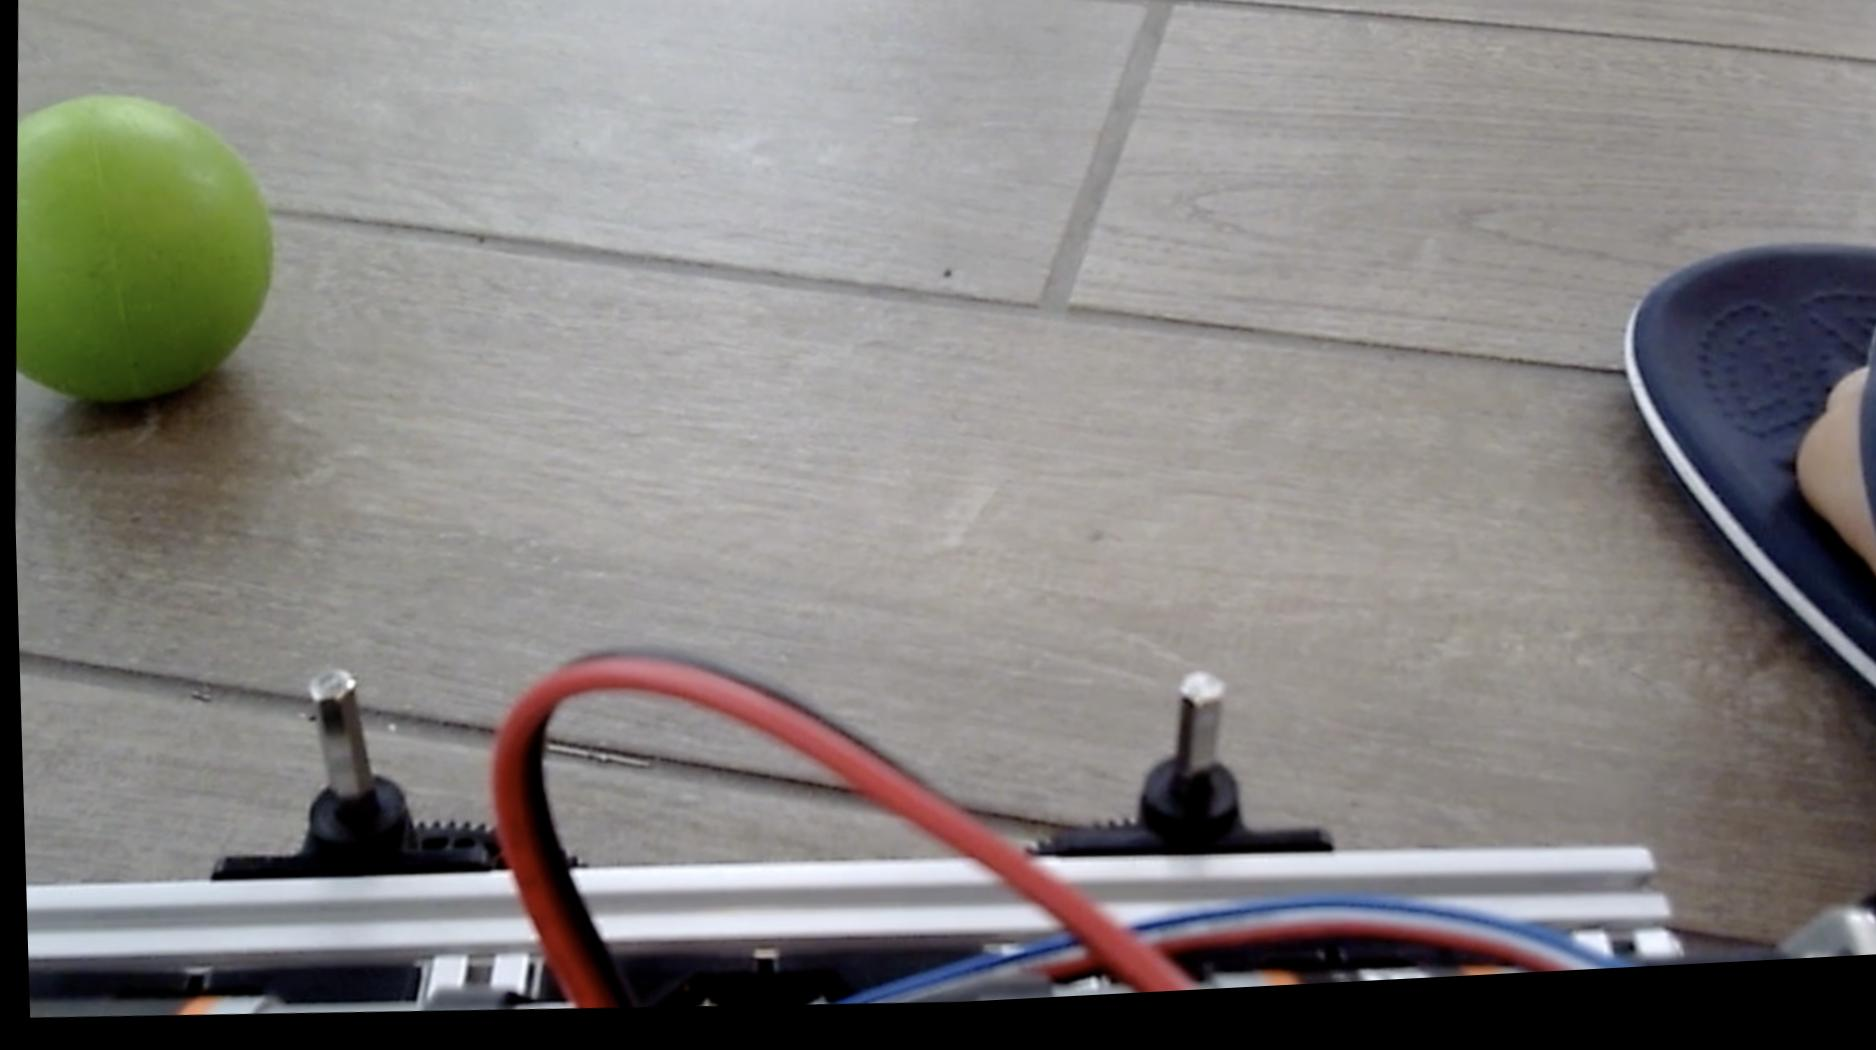greenball: (5, 80, 283, 417)
